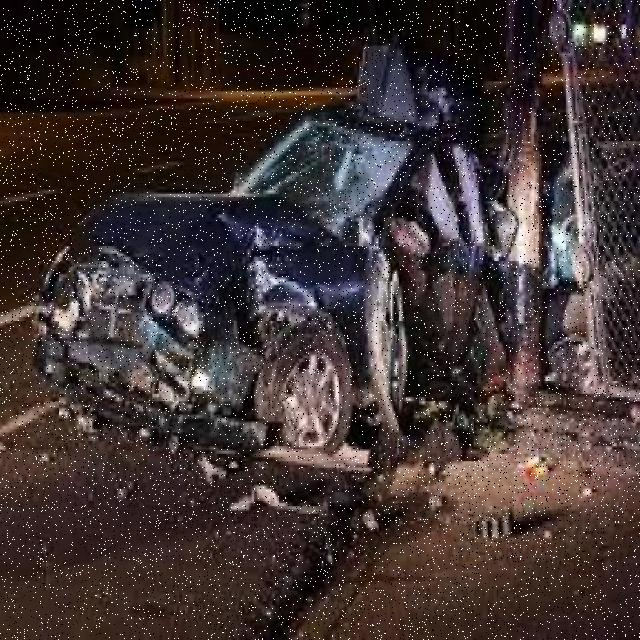damage: (35, 133, 513, 426)
